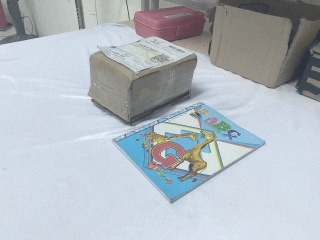book: (107, 98, 268, 206)
box: (208, 1, 319, 89), (89, 37, 196, 126), (296, 25, 320, 107)
